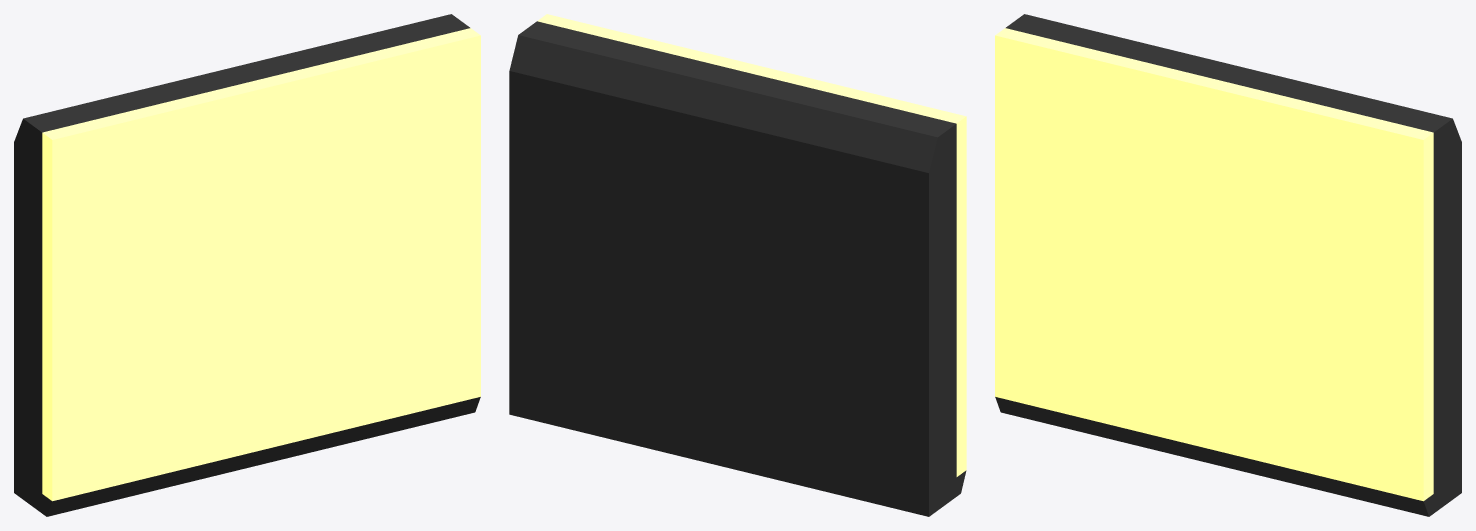
File: lamp_5.glb
The picture shows the model from 3 angles, left to right: view 1: azimuth 30°, elevation 25°; view 2: azimuth 150°, elevation 25°; view 3: azimuth 330°, elevation 25°; orthographic projection. The views are drawn at different scales.
Parts seen in each view (by area): view 1: Tripod Light A 1; view 2: Tripod Light A 1; view 3: Tripod Light A 1.
Part boxes in pixels (left/top/right/bottom): Tripod Light A 1: left=14, top=14, right=480, bottom=516; Tripod Light A 1: left=509, top=14, right=966, bottom=516; Tripod Light A 1: left=995, top=14, right=1461, bottom=516.
Bounding box in the file's own units: 0.3375 × 0.2868 × 0.0523.
2 materials, 1 textured.
